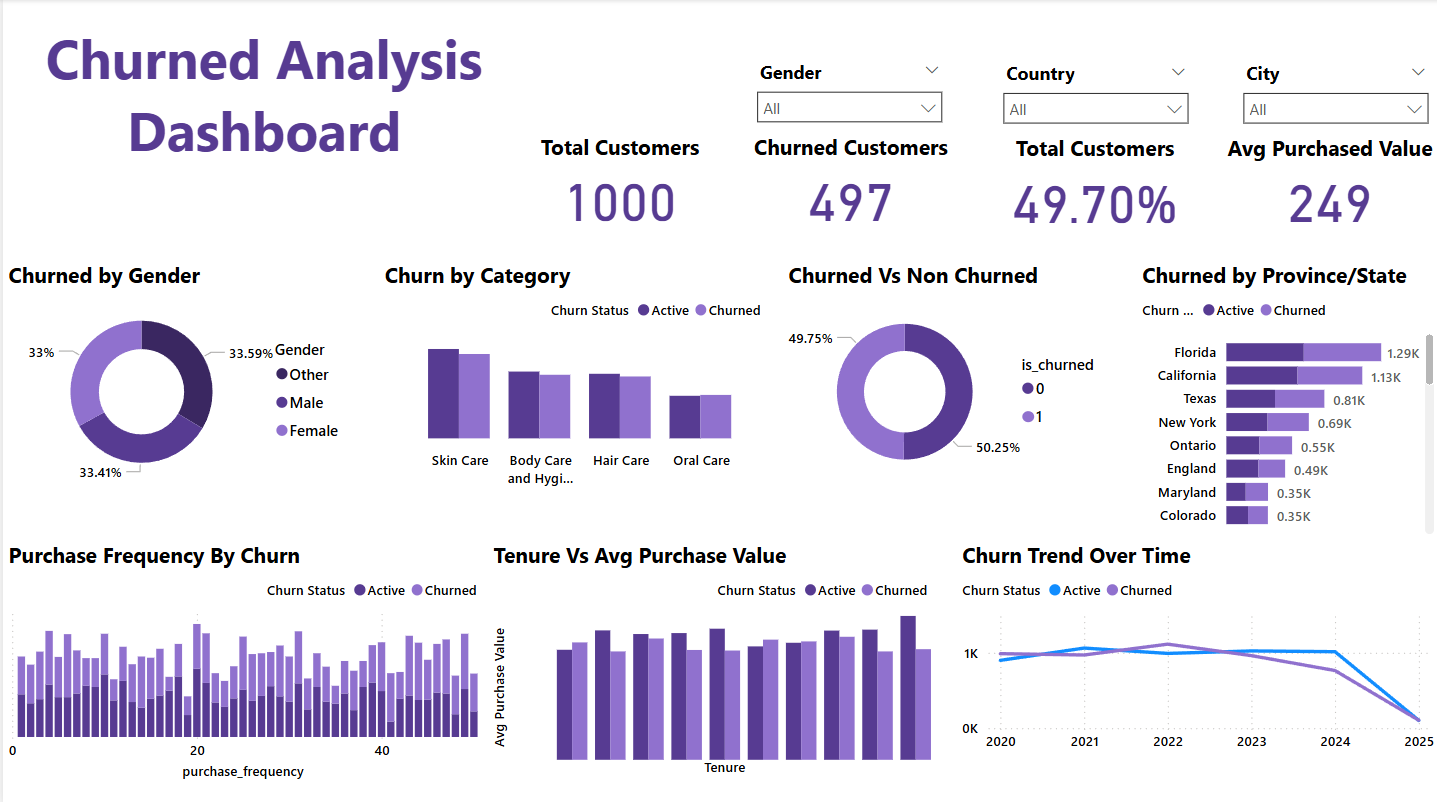

The page's visual inventory and layout, read from the dashboard file:
{"tool":"powerbi","page":{"name":"Page 1","canvas":[1280,720],"ordinal":0},"visuals":[{"type":"donutChart","title":"Churned Vs Non Churned","fields":{"Category":["fact_customer.is_churned"],"Y":["Count(fact_customer.customer_id)"]},"box":[694.5,233.1,304.3,209.8],"z":0},{"type":"donutChart","title":"Churned by Gender","fields":{"Y":["CountNonNull(fact_customer.customer_id)"],"Category":["fact_customer.gender"]},"box":[0,233.1,314.1,209.8],"z":1000},{"type":"lineChart","title":"Churn Trend Over Time","fields":{"Category":["fact_customer.last_purchase_date.Variation.Date Hierarchy.Year"],"Y":["CountNonNull(fact_customer.customer_id)"],"Series":["fact_customer.Churn Status"]},"box":[849.1,482.2,430.7,197.5],"z":3000},{"type":"clusteredColumnChart","title":"Churn by Category","fields":{"Category":["fact_customer.category"],"Y":["CountNonNull(fact_customer.customer_id)"],"Series":["fact_customer.Churn Status"]},"box":[335,233.1,349.7,209.8],"z":3001},{"type":"columnChart","title":"Purchase Frequency By Churn","fields":{"Category":["fact_customer.purchase_frequency"],"Y":["CountNonNull(fact_customer.customer_id)"],"Series":["fact_customer.Churn Status"]},"box":[0,482.2,431.9,218.4],"z":3003},{"type":"clusteredColumnChart","title":"Tenure Vs Avg Purchase Value","fields":{"Y":["Avg(fact_customer.avg_purchase_value)"],"Series":["fact_customer.Churn Status"],"Category":["fact_customer.tenure"]},"box":[431.9,482.2,401.2,214.7],"z":3004},{"type":"card","title":"Total Customers","fields":{"Values":["Count(fact_customer.customer_id)"]},"box":[465,119,168.1,89.6],"z":3005},{"type":"card","title":"Churned Customers","fields":{"Values":["fact_customer.Churned Customers"]},"box":[661.4,119,187.7,89.6],"z":3006},{"type":"card","title":"Total Customers","fields":{"Values":["fact_customer.Churn Rate"]},"box":[881,120.2,184.1,89.6],"z":3007},{"type":"card","title":"Avg Purchased Value","fields":{"Values":["Avg(fact_customer.avg_purchase_value)"]},"box":[1084.7,120.2,195.1,88.3],"z":3008},{"type":"slicer","fields":{"Values":["fact_customer.city"]},"box":[1084.7,49.1,185.3,69.9],"z":3009},{"type":"slicer","fields":{"Values":["fact_customer.country"]},"box":[881,50.3,185.3,69.9],"z":3010},{"type":"slicer","fields":{"Values":["fact_customer.gender"]},"box":[661.4,49.1,185.3,69.9],"z":3011},{"type":"slicer","fields":{"Values":["fact_customer.city"]},"box":[1094.5,50.3,185.3,69.9],"z":3013},{"type":"textbox","box":[0,14.7,465,170.6],"z":3016},{"type":"barChart","title":"Churned by Province/State","fields":{"Category":["fact_customer.province_state"],"Y":["CountNonNull(fact_customer.customer_id)"],"Series":["fact_customer.Churn Status"]},"box":[1009.8,233.1,269.9,249.1],"z":3017}]}

Visuals, with their boxes in screenshot pixels (x1, y1, x2, y2), scaled from the page's 1280x720 canvas onto the 1437x802 screenshot:
"Churned Vs Non Churned" donutChart: (left=780, top=260, right=1121, bottom=493)
"Churned by Gender" donutChart: (left=0, top=260, right=353, bottom=493)
"Churn Trend Over Time" lineChart: (left=953, top=537, right=1436, bottom=757)
"Churn by Category" clusteredColumnChart: (left=376, top=260, right=769, bottom=493)
"Purchase Frequency By Churn" columnChart: (left=0, top=537, right=485, bottom=780)
"Tenure Vs Avg Purchase Value" clusteredColumnChart: (left=485, top=537, right=935, bottom=776)
"Total Customers" card: (left=522, top=133, right=711, bottom=232)
"Churned Customers" card: (left=743, top=133, right=953, bottom=232)
"Total Customers" card: (left=989, top=134, right=1196, bottom=234)
"Avg Purchased Value" card: (left=1218, top=134, right=1436, bottom=232)
slicer - fact_customer.city: (left=1218, top=55, right=1426, bottom=133)
slicer - fact_customer.country: (left=989, top=56, right=1197, bottom=134)
slicer - fact_customer.gender: (left=743, top=55, right=951, bottom=133)
slicer - fact_customer.city: (left=1229, top=56, right=1436, bottom=134)
textbox: (left=0, top=16, right=522, bottom=206)
"Churned by Province/State" barChart: (left=1134, top=260, right=1436, bottom=537)
